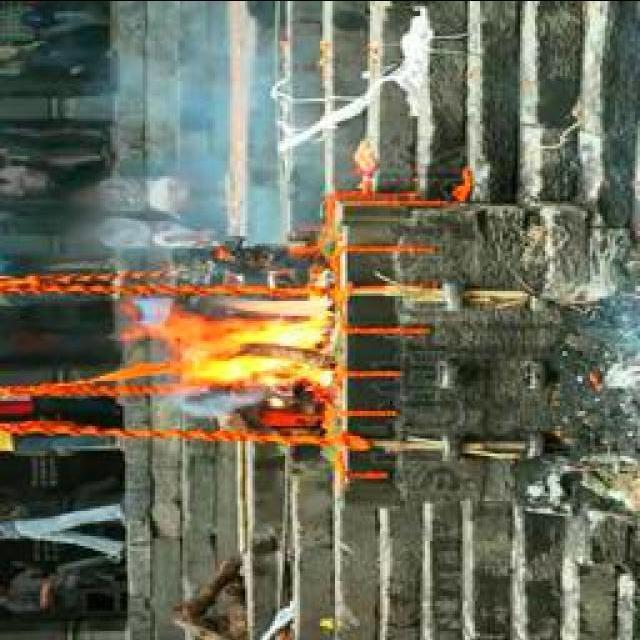Fire: (158, 284, 344, 394)
